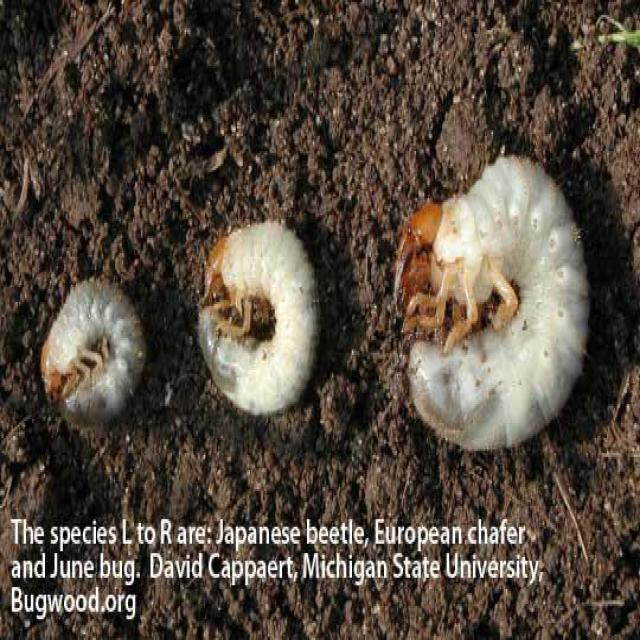Grub-Adult-: (382, 152, 598, 453), (173, 207, 332, 419), (34, 263, 154, 427)
